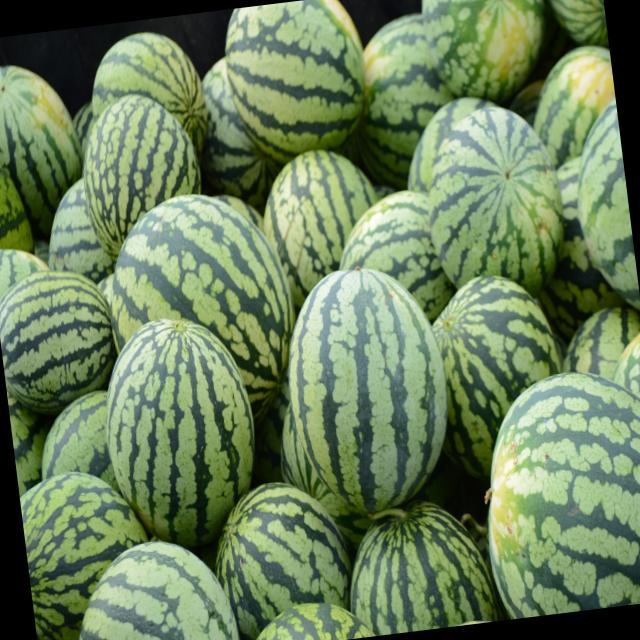WATERMELON: (276, 255, 463, 528), (103, 180, 303, 423), (468, 366, 640, 620), (102, 313, 274, 554), (413, 92, 568, 286), (431, 268, 570, 460), (223, 0, 378, 160), (16, 462, 145, 640), (75, 80, 209, 244), (250, 132, 388, 286), (214, 478, 359, 624), (344, 504, 496, 638), (59, 529, 238, 640), (0, 261, 123, 403), (183, 12, 274, 198), (564, 93, 640, 314), (357, 0, 470, 133), (420, 0, 549, 105), (0, 39, 84, 194), (80, 24, 203, 116), (525, 36, 620, 147), (34, 374, 128, 486), (38, 163, 118, 289), (546, 140, 602, 310), (555, 272, 640, 368), (0, 131, 47, 272), (242, 597, 380, 640), (5, 374, 53, 488), (538, 0, 608, 49), (0, 234, 58, 291)
